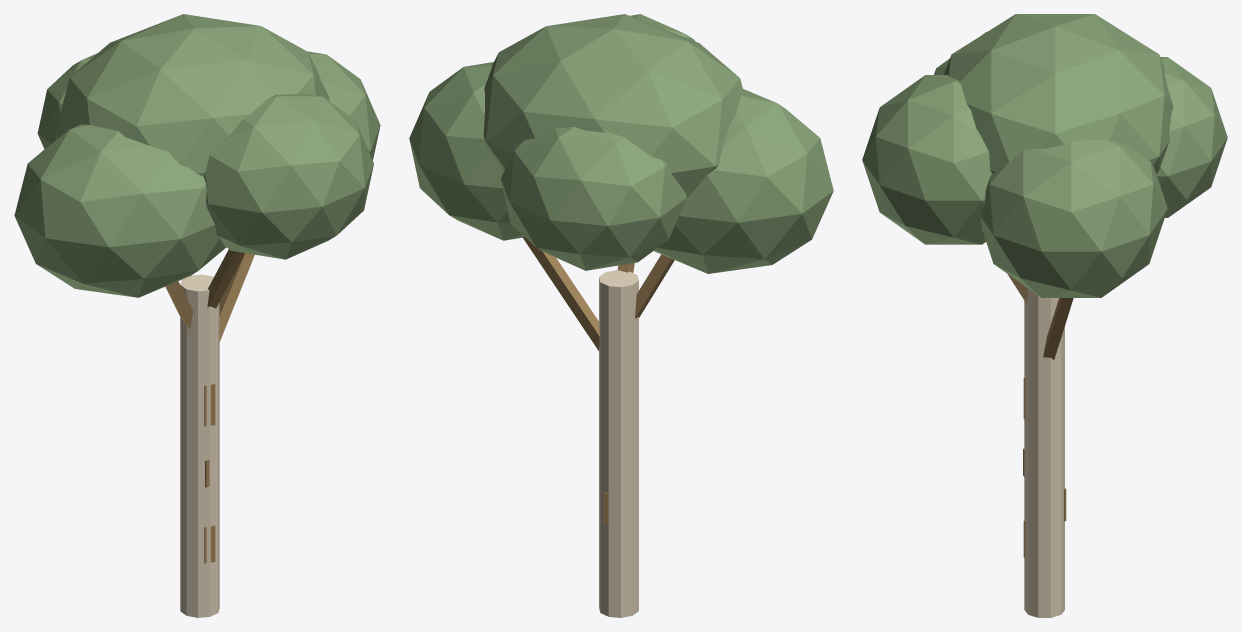
Rendered from plane-tree-london.glb.
3 renders of one model, left to right at view 1: azimuth 30°, elevation 25°; view 2: azimuth 150°, elevation 25°; view 3: azimuth 270°, elevation 25°, orthographic.
Parts seen in each view (by area): view 1: plane-tree-canopy-01, plane-tree-canopy-02, plane-tree-canopy-05, plane-tree-trunk, plane-tree-canopy-03, plane-tree-canopy-04, plane-tree-branch-01, plane-tree-branch-03, plane-tree-branch-02; view 2: plane-tree-canopy-02, plane-tree-canopy-04, plane-tree-canopy-01, plane-tree-trunk, plane-tree-canopy-03, plane-tree-branch-01, plane-tree-branch-02; view 3: plane-tree-canopy-02, plane-tree-canopy-03, plane-tree-canopy-05, plane-tree-trunk, plane-tree-canopy-04, plane-tree-branch-01.
Boxes of the visible parts, x1=… form: plane-tree-canopy-01: x1=14, y1=124, x2=226, y2=297; plane-tree-canopy-02: x1=54, y1=14, x2=329, y2=176; plane-tree-canopy-05: x1=204, y1=93, x2=373, y2=259; plane-tree-trunk: x1=180, y1=274, x2=219, y2=617; plane-tree-canopy-03: x1=307, y1=51, x2=380, y2=160; plane-tree-canopy-04: x1=37, y1=53, x2=97, y2=149; plane-tree-branch-01: x1=219, y1=253, x2=254, y2=341; plane-tree-branch-03: x1=207, y1=249, x2=244, y2=308; plane-tree-branch-02: x1=165, y1=281, x2=193, y2=329; plane-tree-canopy-02: x1=483, y1=14, x2=744, y2=197; plane-tree-canopy-04: x1=501, y1=127, x2=686, y2=270; plane-tree-canopy-01: x1=654, y1=89, x2=833, y2=273; plane-tree-trunk: x1=599, y1=270, x2=638, y2=617; plane-tree-canopy-03: x1=409, y1=62, x2=524, y2=240; plane-tree-branch-01: x1=523, y1=237, x2=599, y2=351; plane-tree-branch-02: x1=635, y1=254, x2=674, y2=318; plane-tree-canopy-02: x1=944, y1=14, x2=1173, y2=174; plane-tree-canopy-03: x1=980, y1=139, x2=1167, y2=297; plane-tree-canopy-05: x1=862, y1=75, x2=991, y2=244; plane-tree-trunk: x1=1024, y1=288, x2=1064, y2=617; plane-tree-canopy-04: x1=1156, y1=57, x2=1227, y2=217; plane-tree-branch-01: x1=1043, y1=298, x2=1073, y2=359.
Size of the model in its own units: 7.9 by 12.02 by 6.83.
